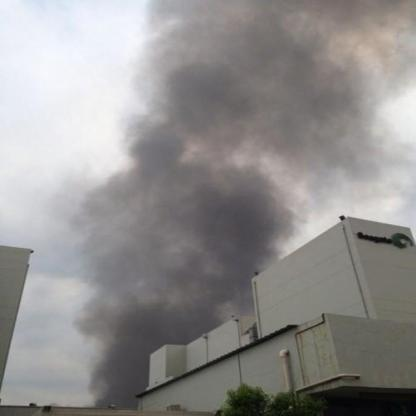smoke: (117, 2, 414, 165), (51, 172, 284, 344), (90, 344, 144, 414)
